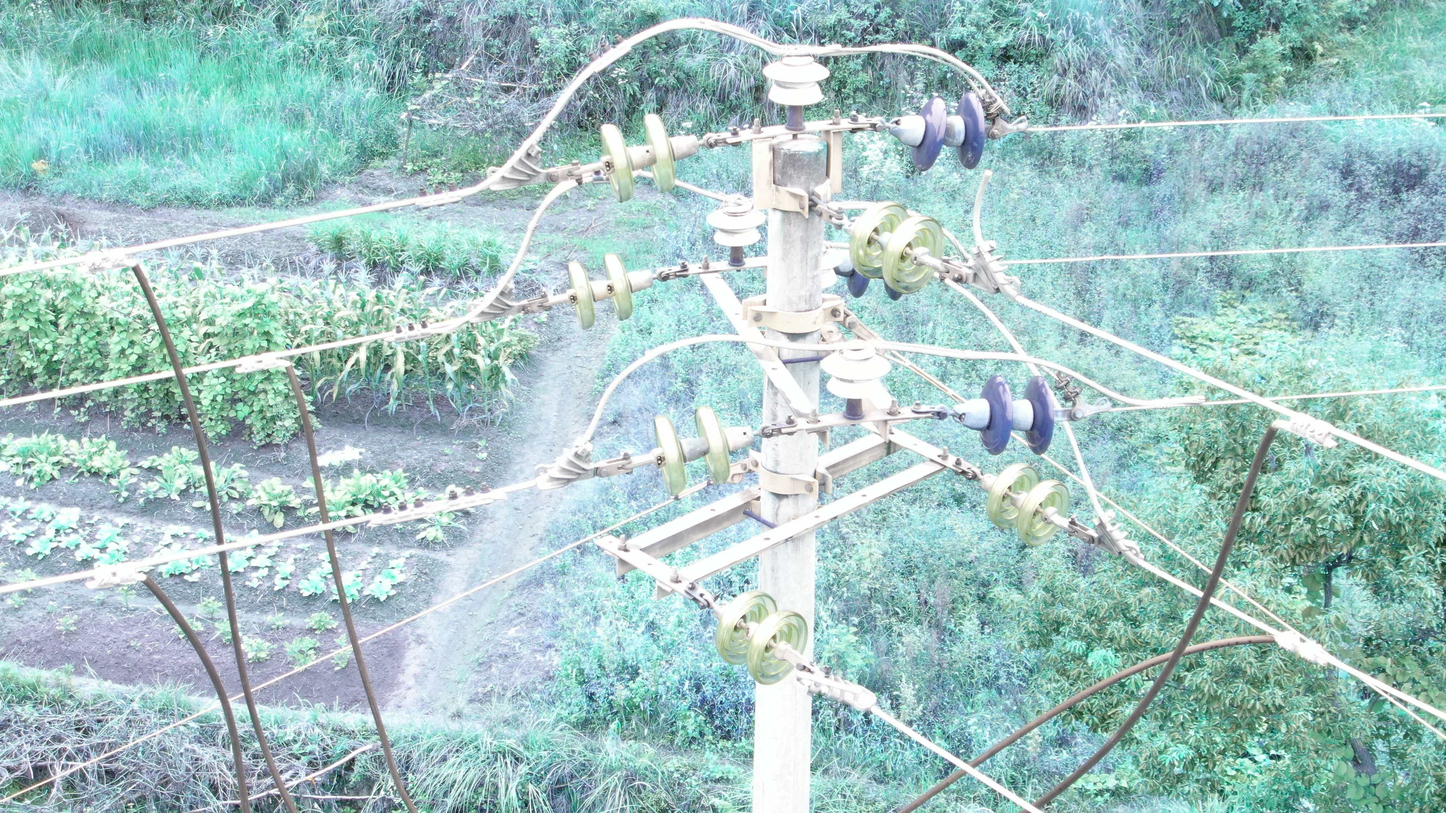severe_soiling_no_discharge_whole: (816, 335, 893, 405), (760, 51, 831, 108), (703, 192, 769, 250)
